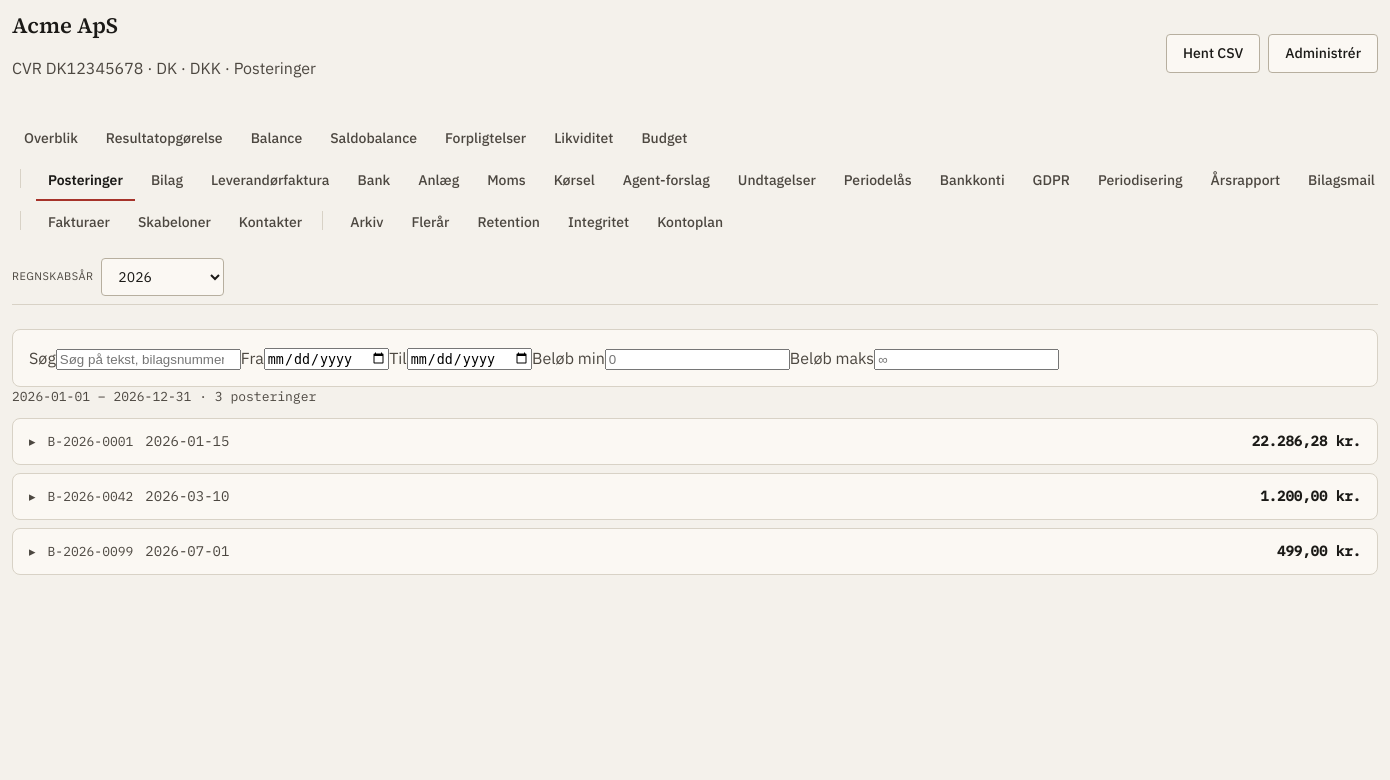
JournalView — #396 filter-bar › fritekstsøgning matches entry text
In the search field labelled "Søg": x=148, y=359 [56,348,241,370], type "printer"
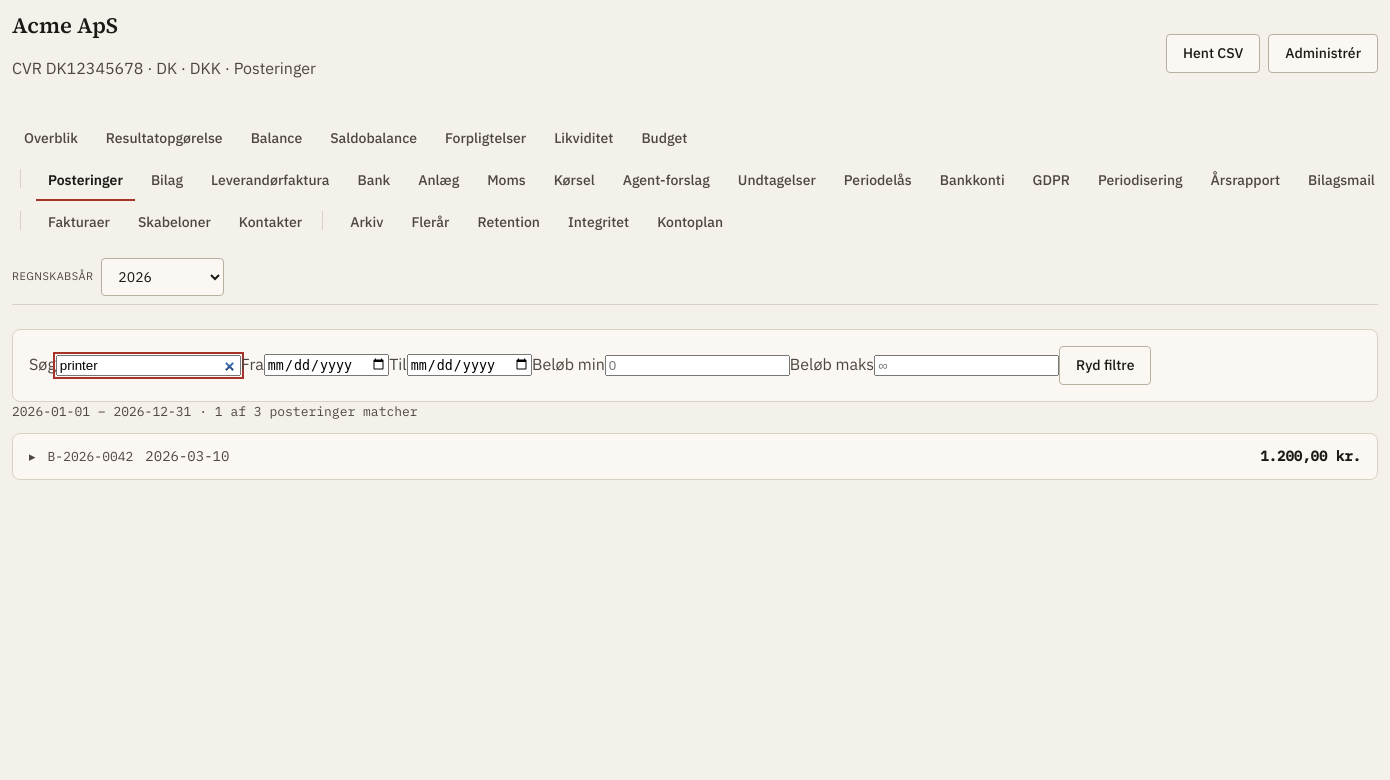
Expected: the text "Salg af ydelse" is not shown
Result: the text "2026-01-01 – 2026-12-31 · 1 af 3 posteringer matcher" is shown at [12,402,418,420]
